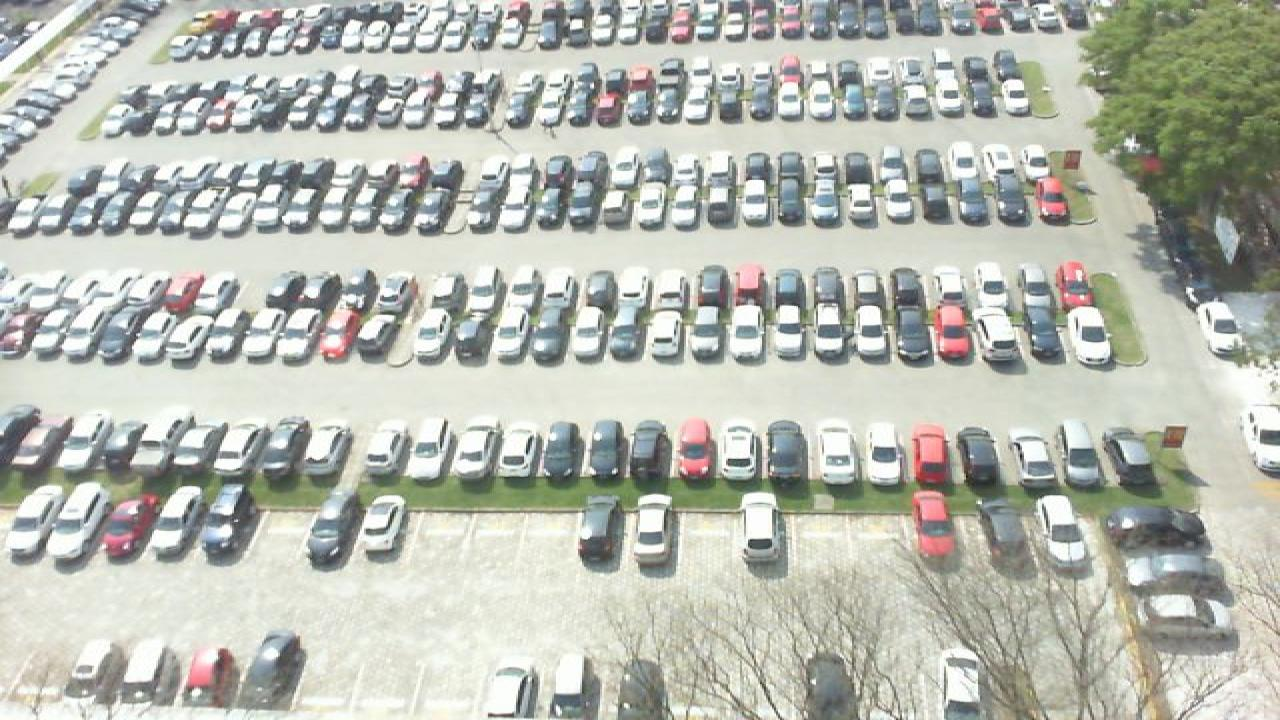Car: (1100, 505, 1218, 550), (302, 484, 364, 566), (240, 631, 304, 709), (1128, 590, 1236, 636), (1036, 494, 1098, 574), (1120, 554, 1232, 598), (202, 480, 258, 562), (54, 482, 110, 562), (0, 486, 58, 561), (734, 490, 788, 570), (546, 650, 602, 720), (152, 484, 204, 559), (934, 648, 988, 720), (628, 493, 680, 567), (908, 492, 960, 566), (120, 639, 174, 709), (100, 493, 156, 560), (612, 657, 670, 720), (10, 412, 74, 469), (480, 655, 536, 720), (576, 495, 626, 567), (1104, 426, 1160, 490), (804, 652, 856, 720), (980, 502, 1036, 564), (180, 647, 232, 713), (154, 406, 202, 477), (66, 642, 118, 706), (238, 417, 294, 476), (816, 421, 866, 485), (864, 422, 914, 486), (1058, 421, 1104, 489), (360, 495, 410, 557), (58, 411, 110, 470), (954, 426, 1002, 489), (1004, 428, 1054, 488), (274, 415, 318, 483), (308, 423, 360, 479), (106, 416, 156, 474), (764, 420, 810, 483), (1242, 403, 1280, 476), (498, 417, 542, 480), (674, 418, 718, 481), (912, 423, 954, 489), (632, 419, 676, 481), (718, 425, 764, 484), (0, 405, 44, 466), (544, 420, 588, 481), (450, 424, 496, 482), (588, 419, 630, 482), (410, 414, 450, 479), (364, 426, 412, 478), (196, 422, 244, 472)
